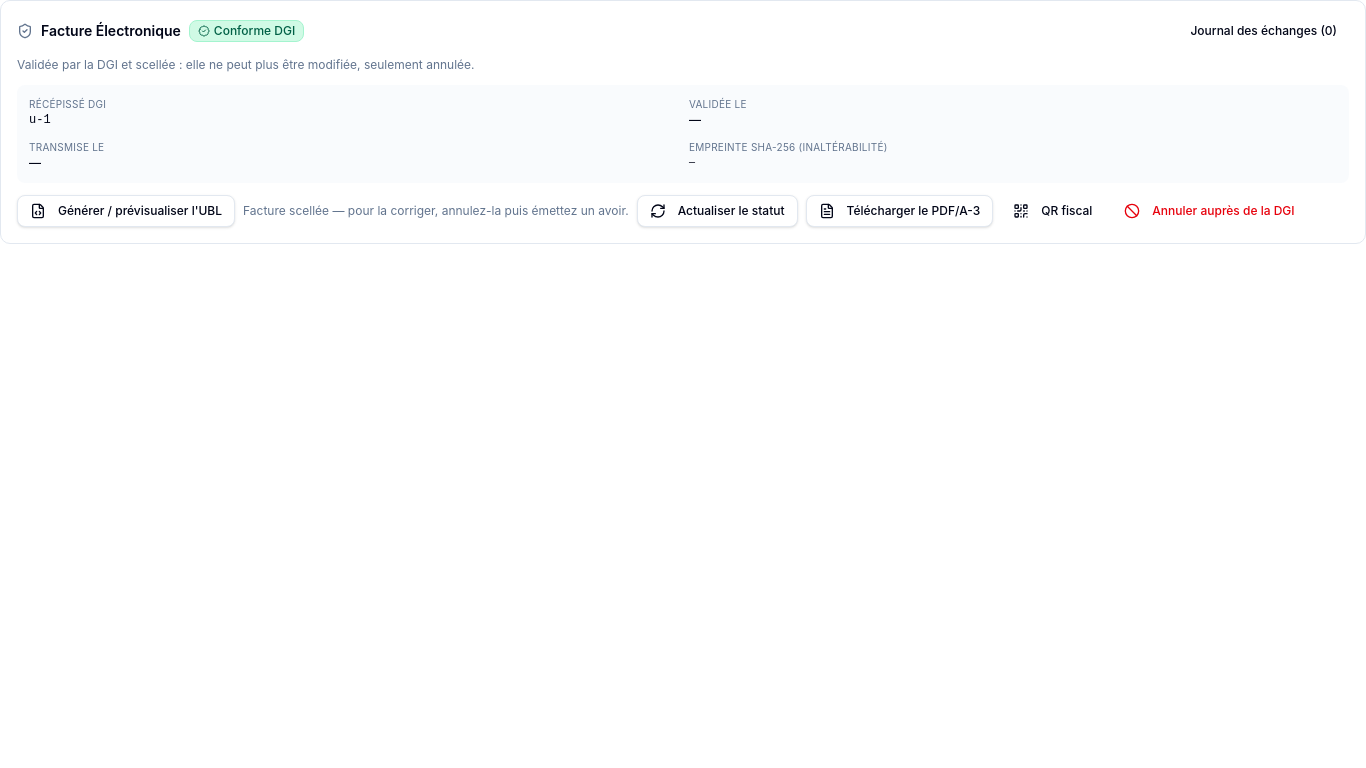
Test: FactureElectroniquePanel — annulation › exige un motif d'au moins cinq caractères avant de confirmer
The width and height of the screenshot is (1366, 768).
Click the button "Annuler auprès de la DGI": (1210, 211) [1112,195,1307,227]
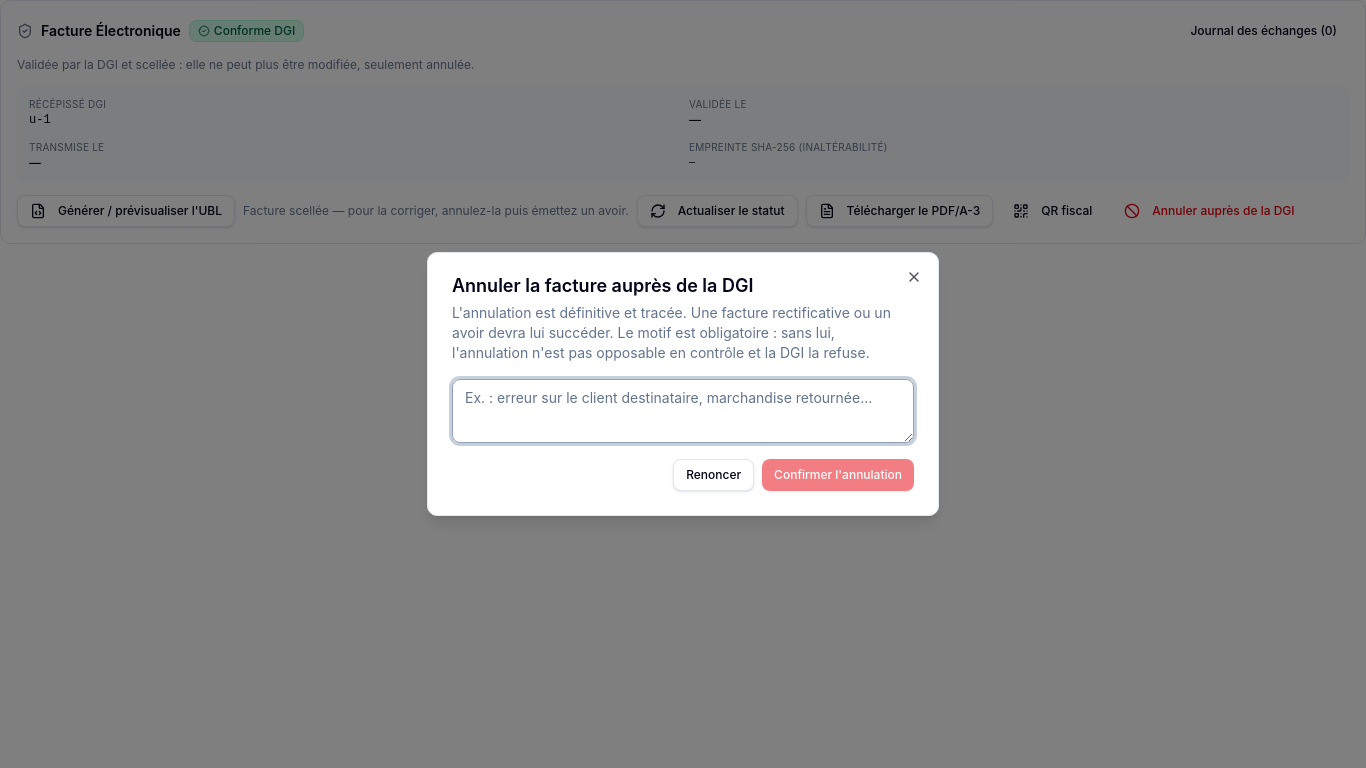
Expected: the button "Confirmer l'annulation" is disabled, [762,459,914,491]
Replace the text in the text box with placeholder "erreur sur le client" with "abc": (683, 411) [452,379,914,443]
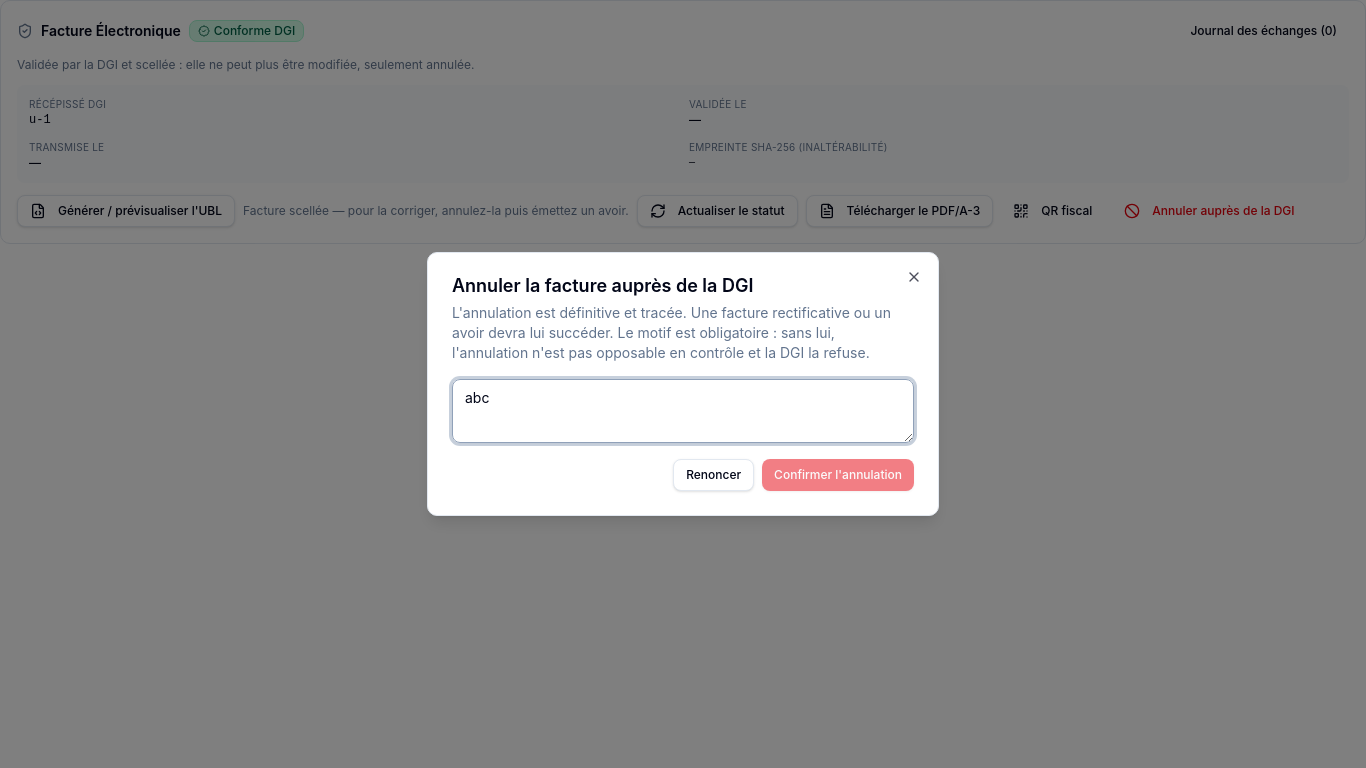
Expected: the button "Confirmer l'annulation" is disabled, [762,459,914,491]
Replace the text in the text box with placeholder "erreur sur le client" with "Marchandise retournée": (683, 411) [452,379,914,443]
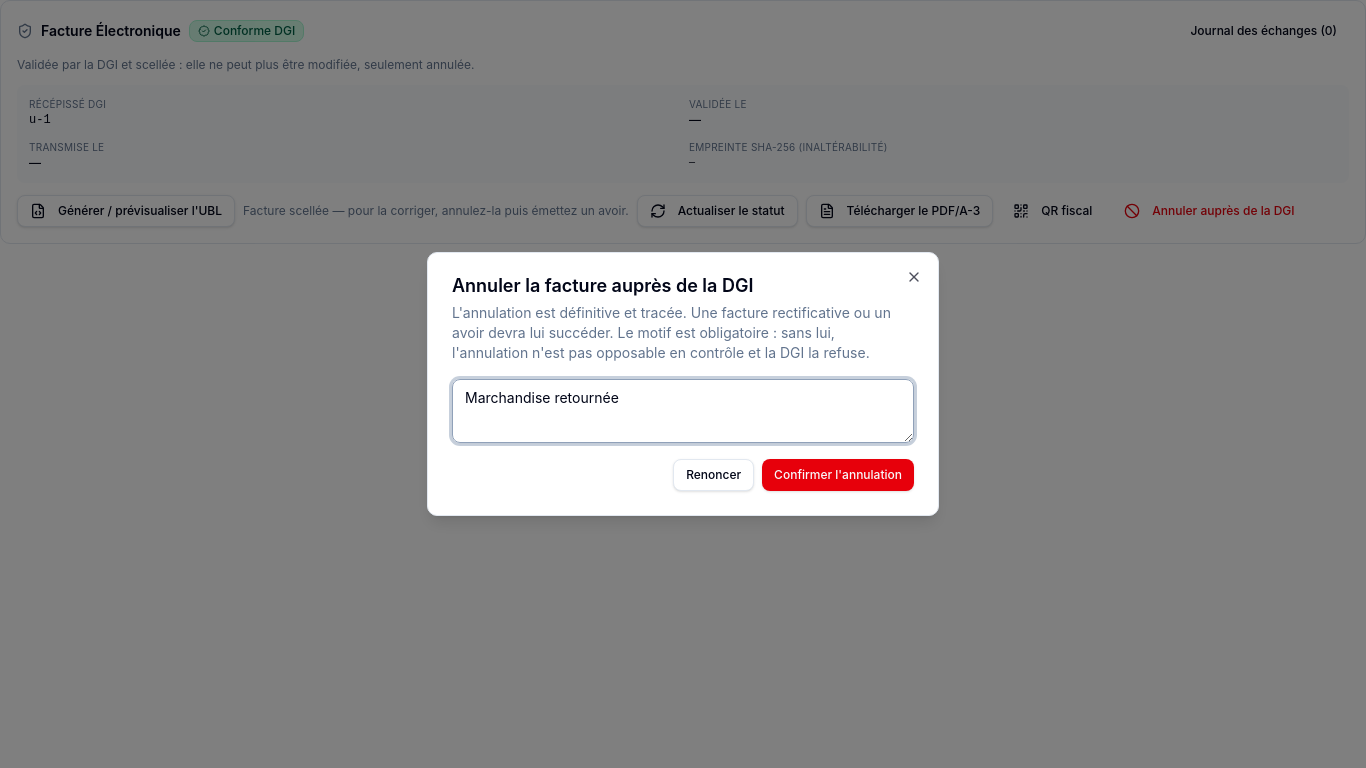
Expected: the button "Confirmer l'annulation" is enabled, [762,459,914,491]
